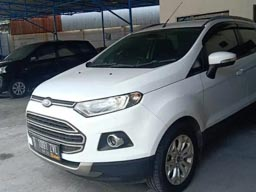plat: (32, 135, 62, 162)
